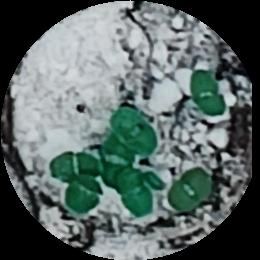Basil: (186, 68, 227, 116), (169, 166, 213, 207), (114, 108, 159, 146), (100, 135, 132, 184), (49, 149, 100, 179), (116, 170, 151, 211), (67, 173, 99, 215)
